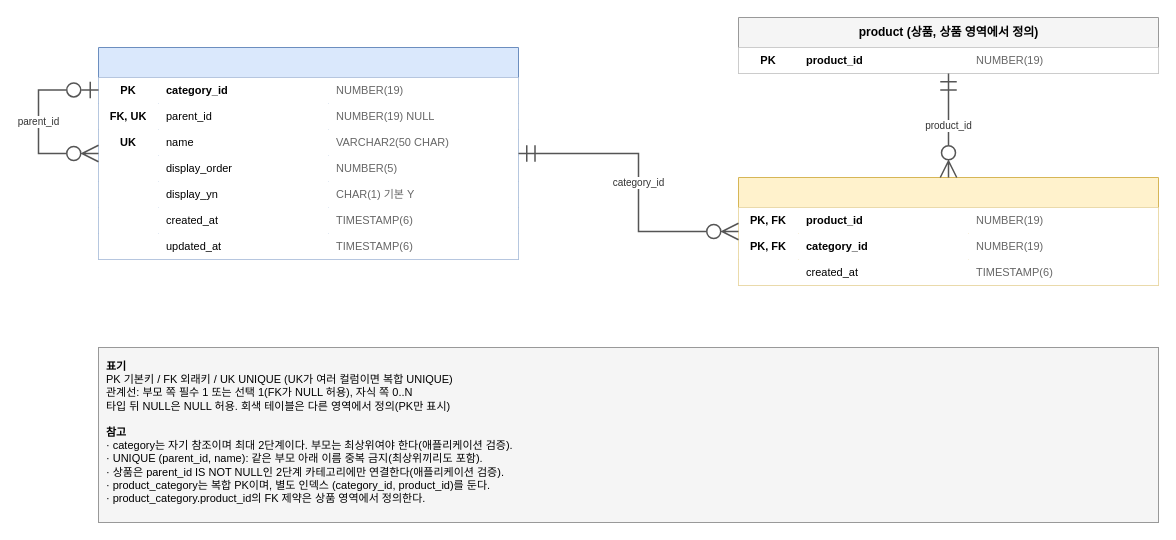
Some shapes in this 1176 by 540 pixel diagram are drawn without their labels. Each missing label, with the box of its shape:
category (카테고리): (98, 46, 518, 260)
product_category (상품 카테고리): (738, 176, 1158, 286)
